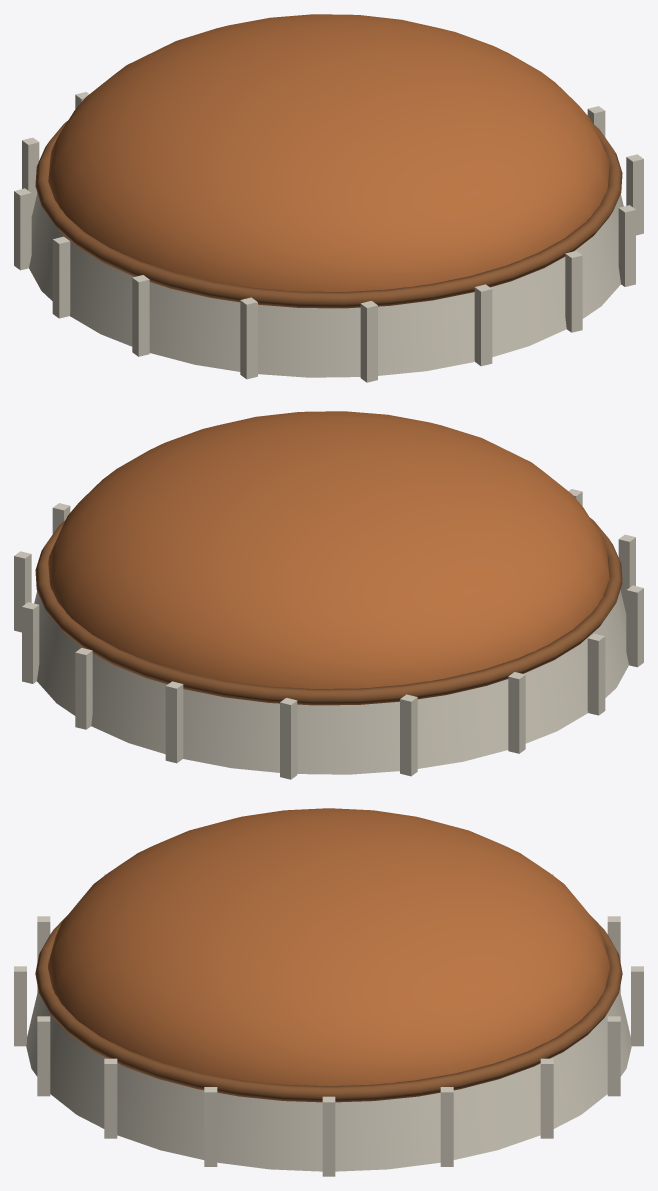
The model's file is mexico-dos-esportes.glb.
The picture shows the model from 3 angles, top to bottom: view 1: azimuth 30°, elevation 25°; view 2: azimuth 150°, elevation 25°; view 3: azimuth 270°, elevation 25°; orthographic projection.
Parts seen in each view (by area): view 1: palacio-dos-esportes; view 2: palacio-dos-esportes; view 3: palacio-dos-esportes.
Boxes of the visible parts, x1,y1,x2,y2 form: palacio-dos-esportes: (14,14,643,382); palacio-dos-esportes: (14,411,643,779); palacio-dos-esportes: (14,808,643,1176).
Bounding box in the file's own units: 51.04 × 16.67 × 51.04.
